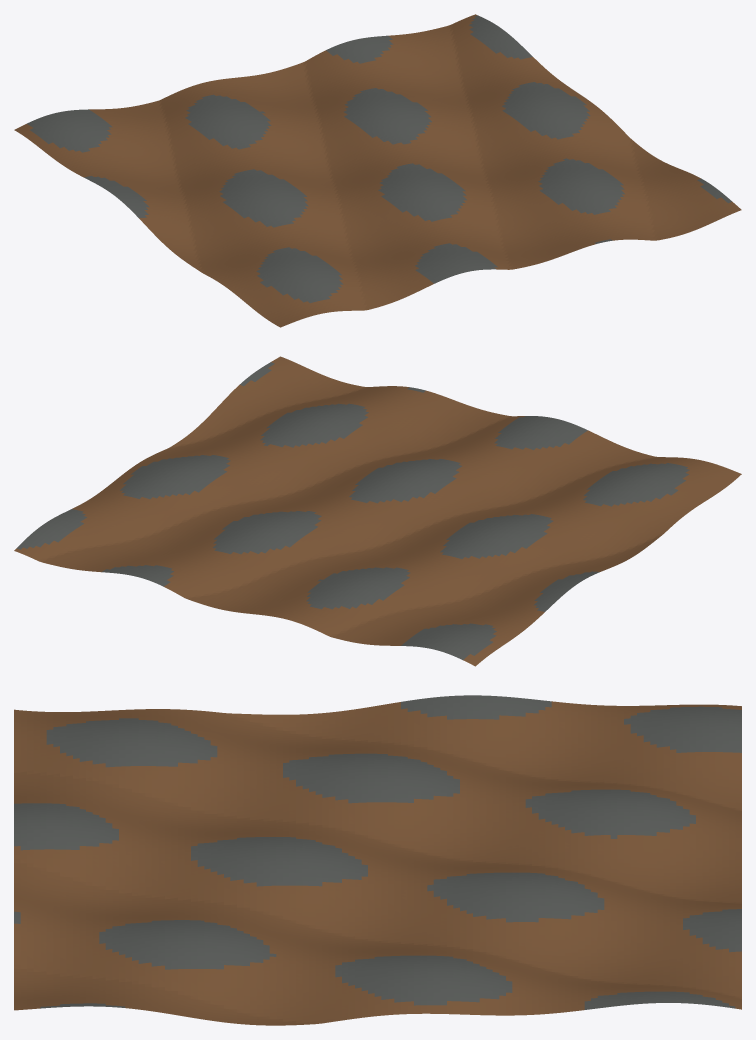
File: red_canyon_112.obj
3 renders of one model, top to bottom at view 1: azimuth 30°, elevation 25°; view 2: azimuth 150°, elevation 25°; view 3: azimuth 270°, elevation 25°, orthographic. The views are drawn at different scales.
Bounding box in the file's own units: 222 × 8.87 × 222.
